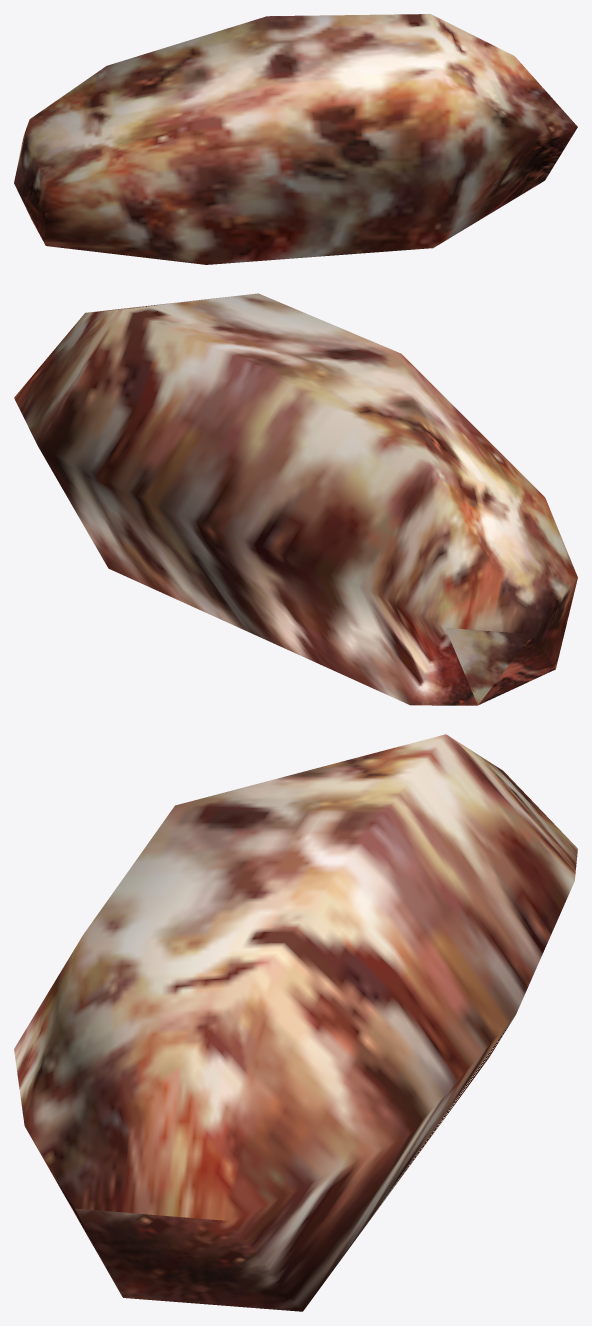
The model's file is edb_food_meat_loaf_s1_l1.fbx.
The picture shows the model from 3 angles, top to bottom: view 1: azimuth 30°, elevation 25°; view 2: azimuth 150°, elevation 25°; view 3: azimuth 270°, elevation 25°; orthographic projection. The views are drawn at different scales.
Parts seen in each view (by area): view 1: mesh_node; view 2: mesh_node; view 3: mesh_node.
Boxes of the visible parts, x1,y1,x2,y2 form: mesh_node: (14, 14, 577, 264); mesh_node: (14, 293, 577, 705); mesh_node: (14, 734, 577, 1311).
Bounding box in the file's own units: 0.2934 × 0.1233 × 0.1692.
Materials: 1 (1 with a texture image).
